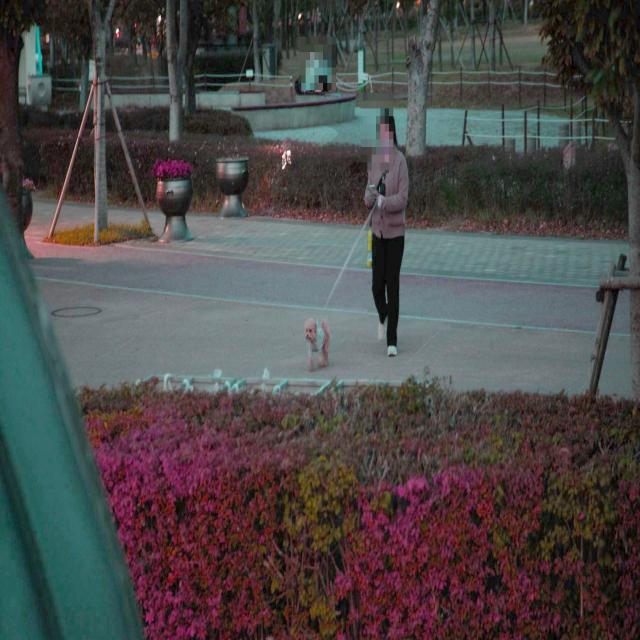Leashed_Dog: (304, 196, 383, 372)
